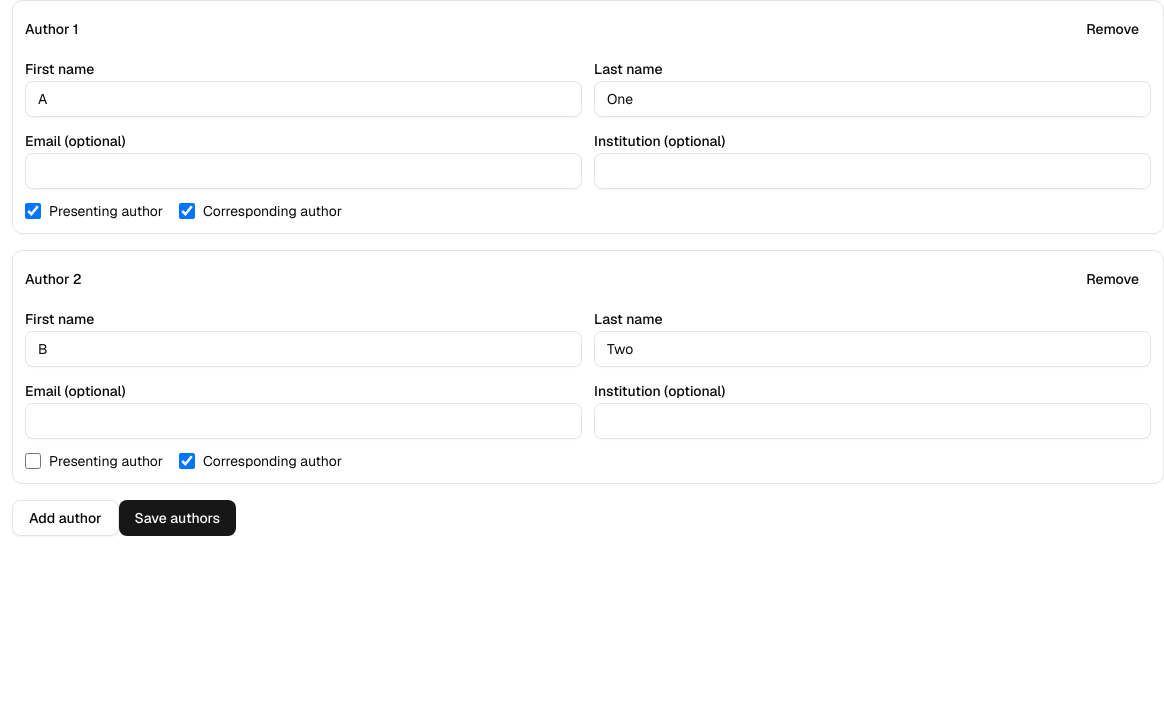
Test: AuthorListEditor › rejects more than one corresponding author
Click the button "Save authors".
click(177, 518)  # box x1=118 y1=500 x2=236 y2=536
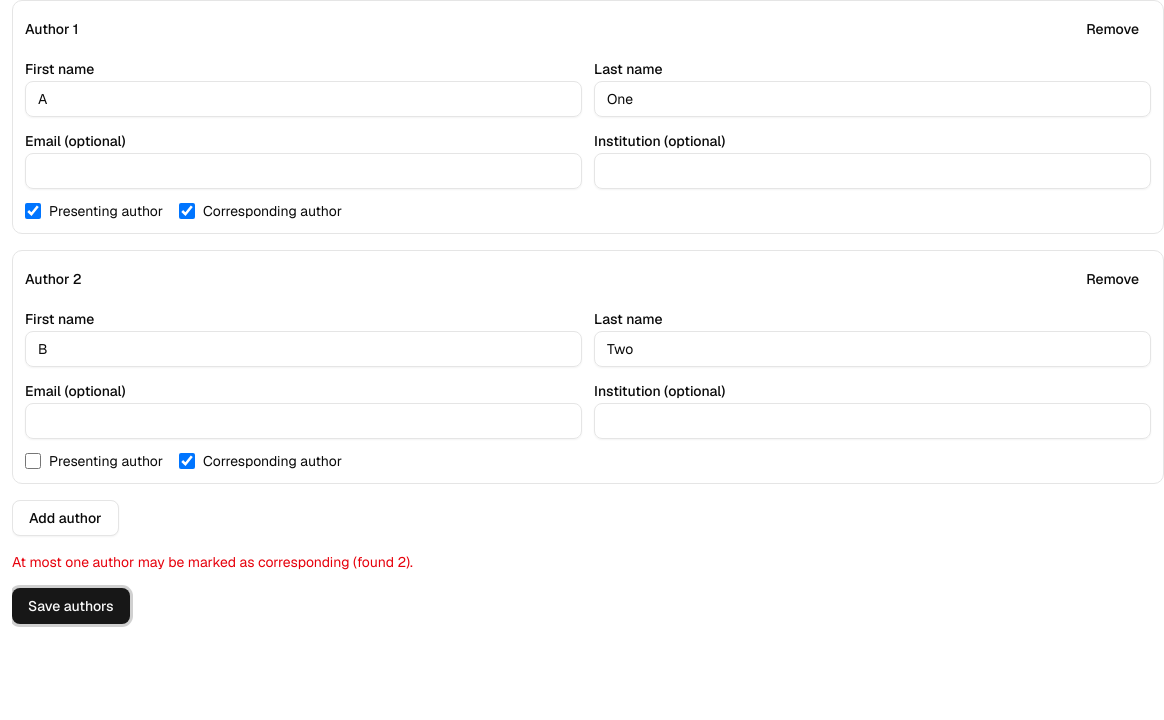
Expected: the message shows "At most one author may be marked as corresponding", x1=12 y1=553 x2=413 y2=571
